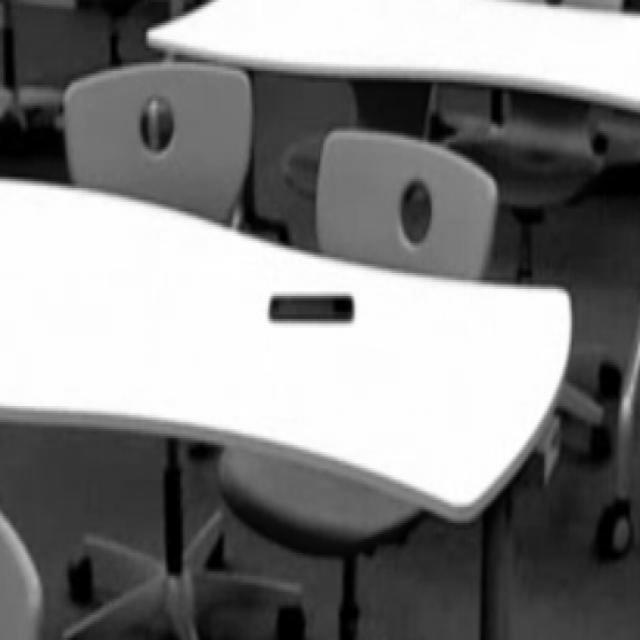fake: (258, 276, 370, 356)
